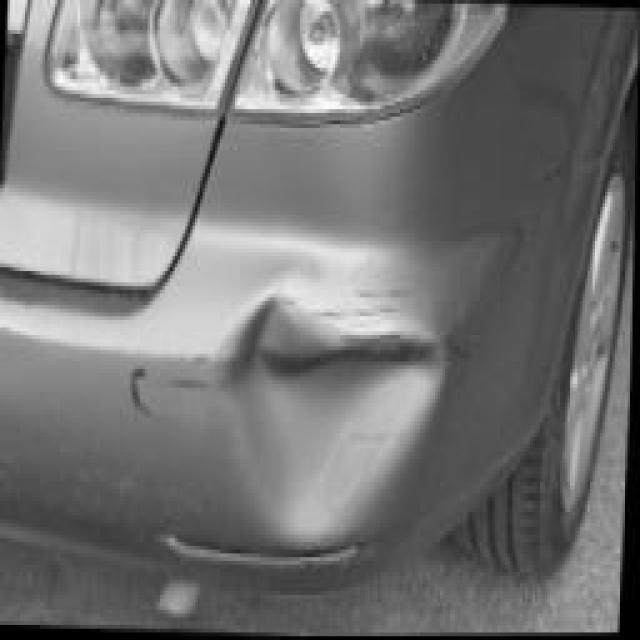Bumper: (81, 129, 540, 601)
